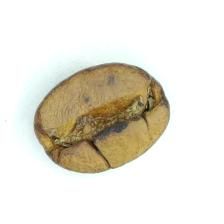NG: (48, 82, 153, 150)
